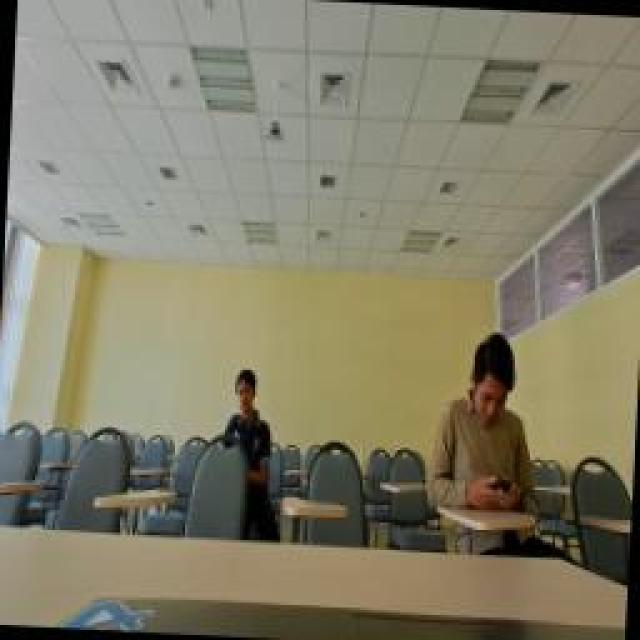phone: (425, 328, 547, 518)
study: (220, 365, 275, 480)
